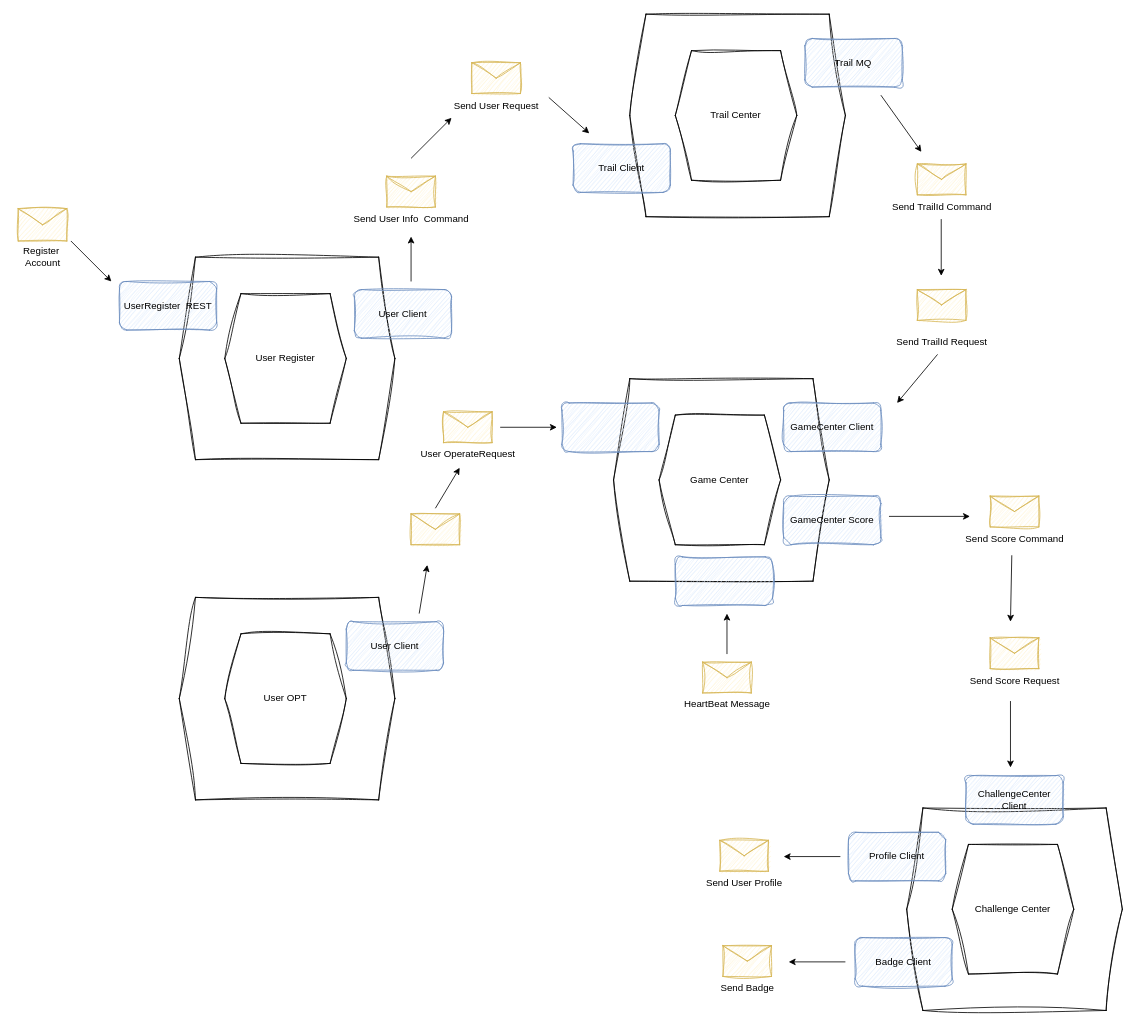
This 1136x1025 diagram has some shape labels left out. The box of each missing label's shape, as (x1, y1, x2, y2) in pixels:
GameCenter REST Contriller: (561, 402, 659, 452)
HRM Client: (674, 556, 772, 605)
User Operate Command: (410, 513, 460, 545)
